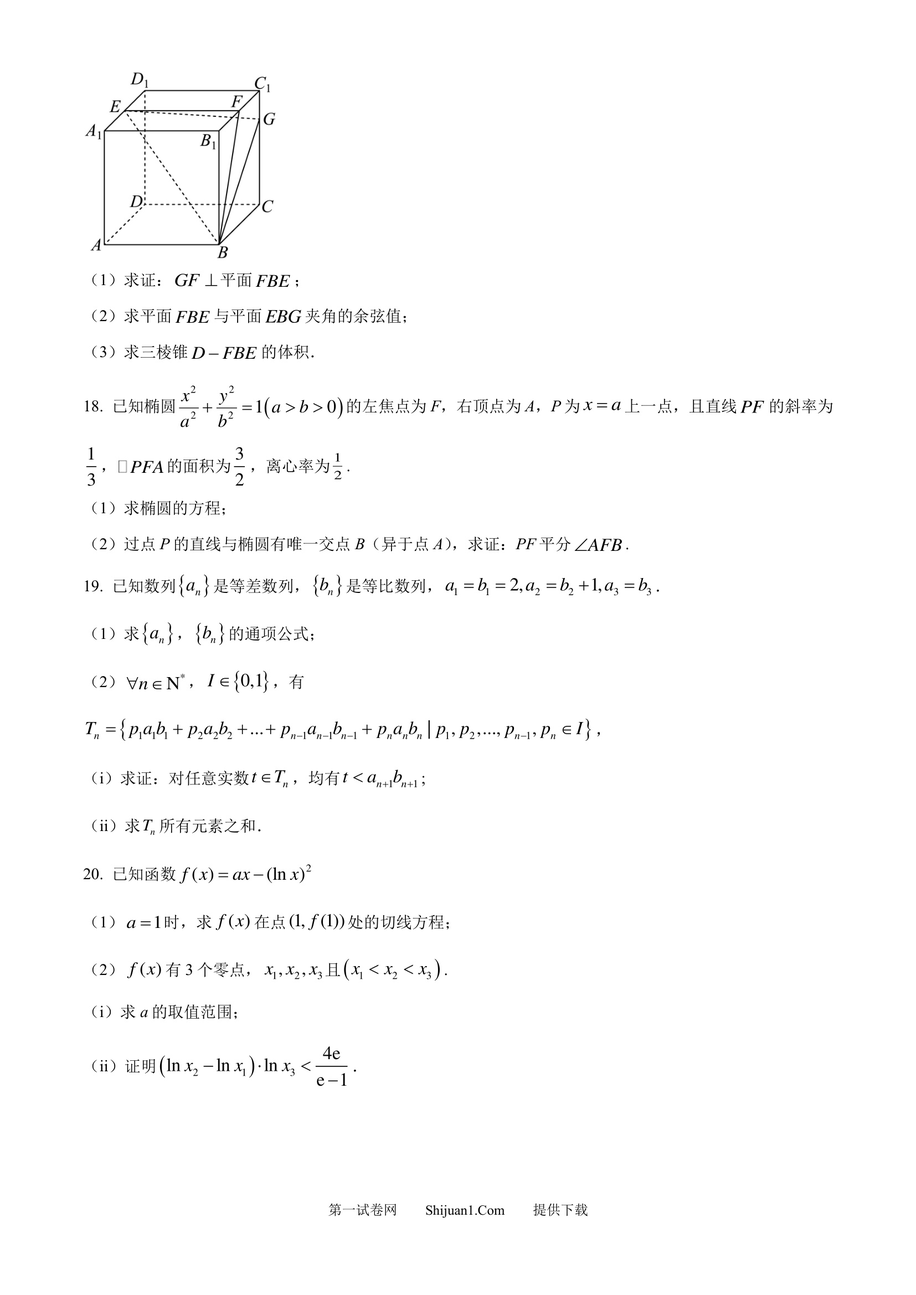question: (58, 560, 670, 851), (58, 369, 853, 562), (58, 57, 451, 372), (63, 853, 460, 1113)
